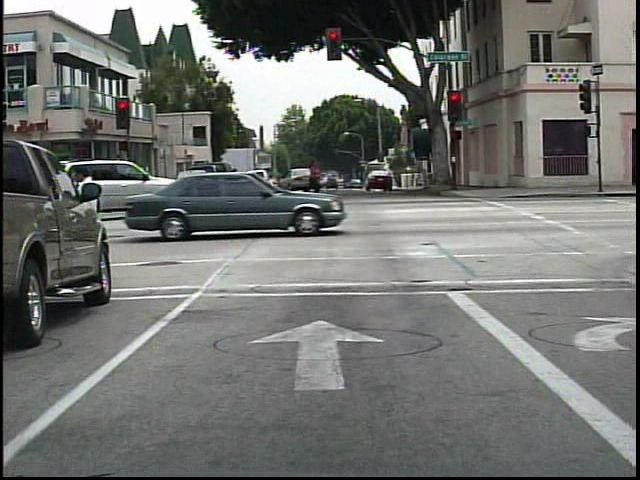person: (301, 160, 326, 194)
